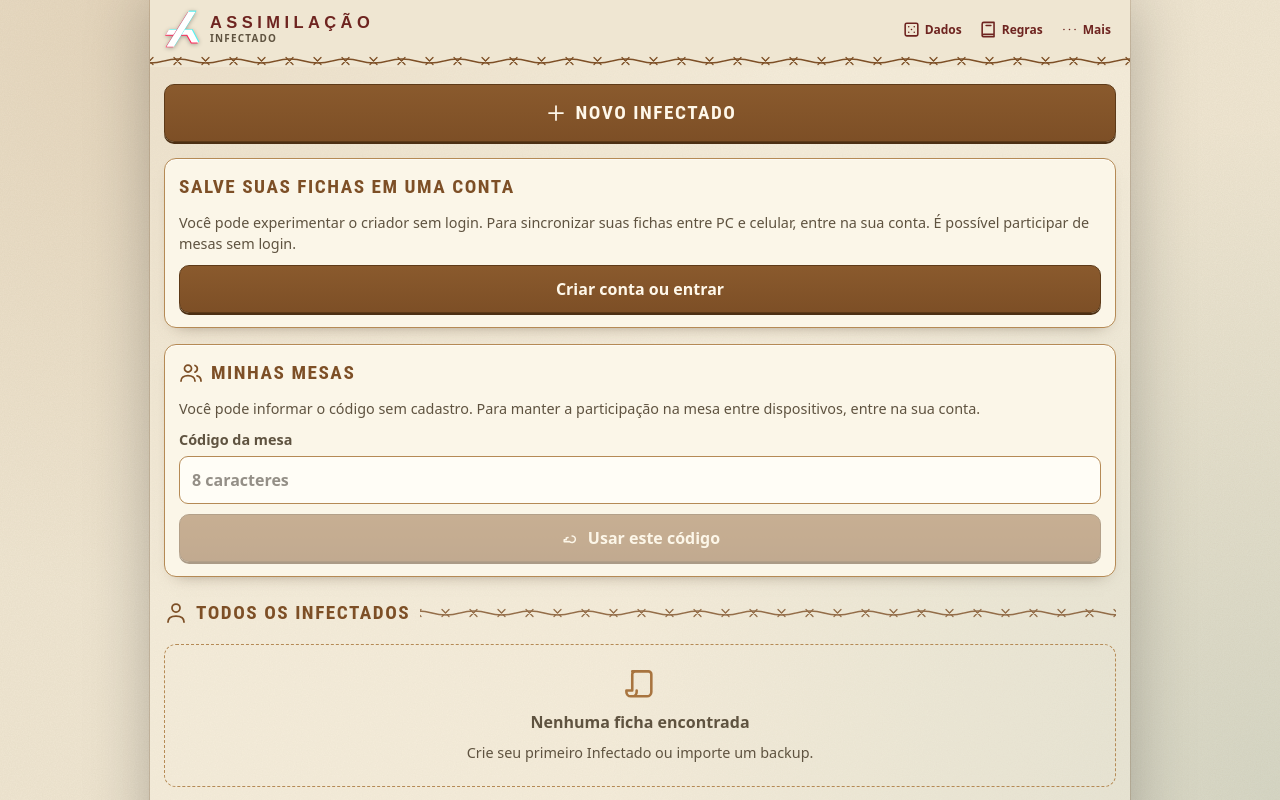
Home: entrar na mesa antes de criar personagem › código válido fica guardado (sem criar ficha) e pode ser removido
Type "abcd-2345" into the field labelled "Código da mesa".
click(640, 480); type("abcd-2345")  # box [179,456,1101,504]
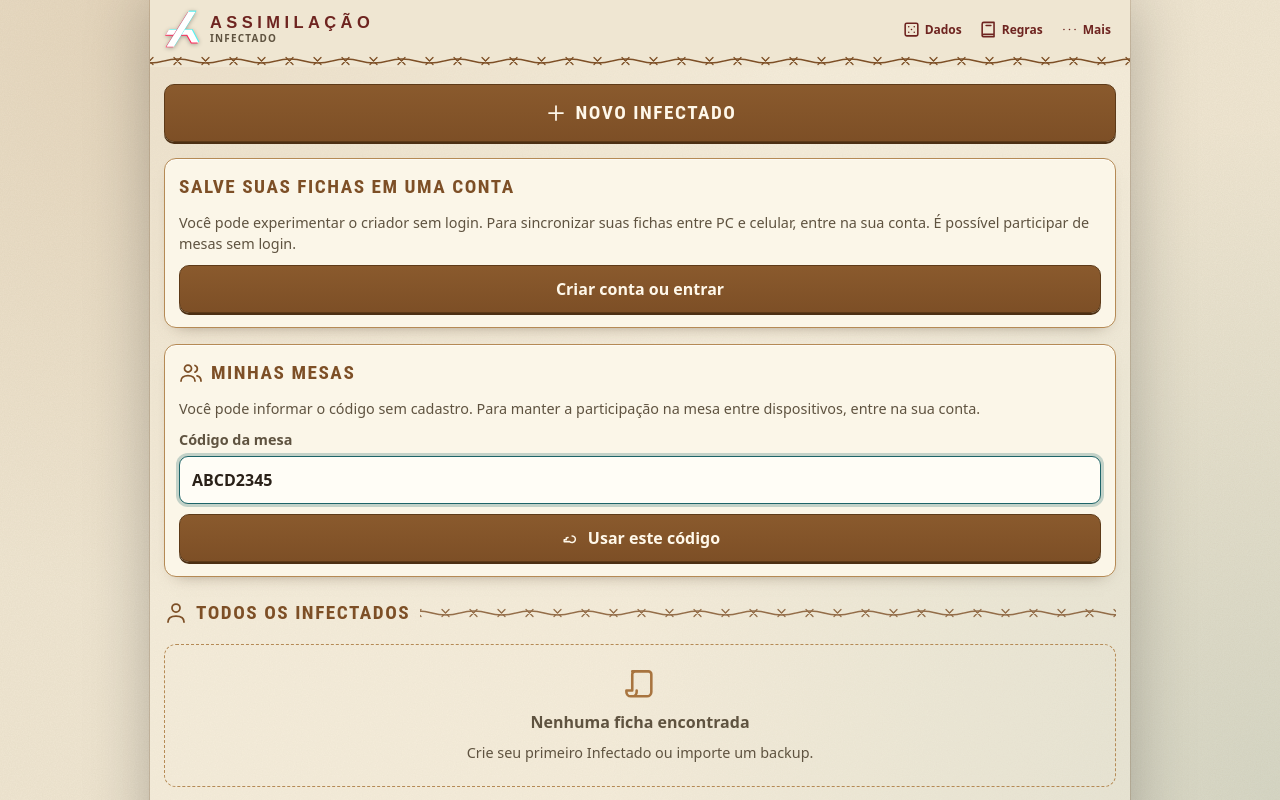
Result: the field labelled "Código da mesa" holds "ABCD2345" at [179,456,1101,504]
Click the button "Usar este código".
click(640, 538)  # box [179,514,1101,562]
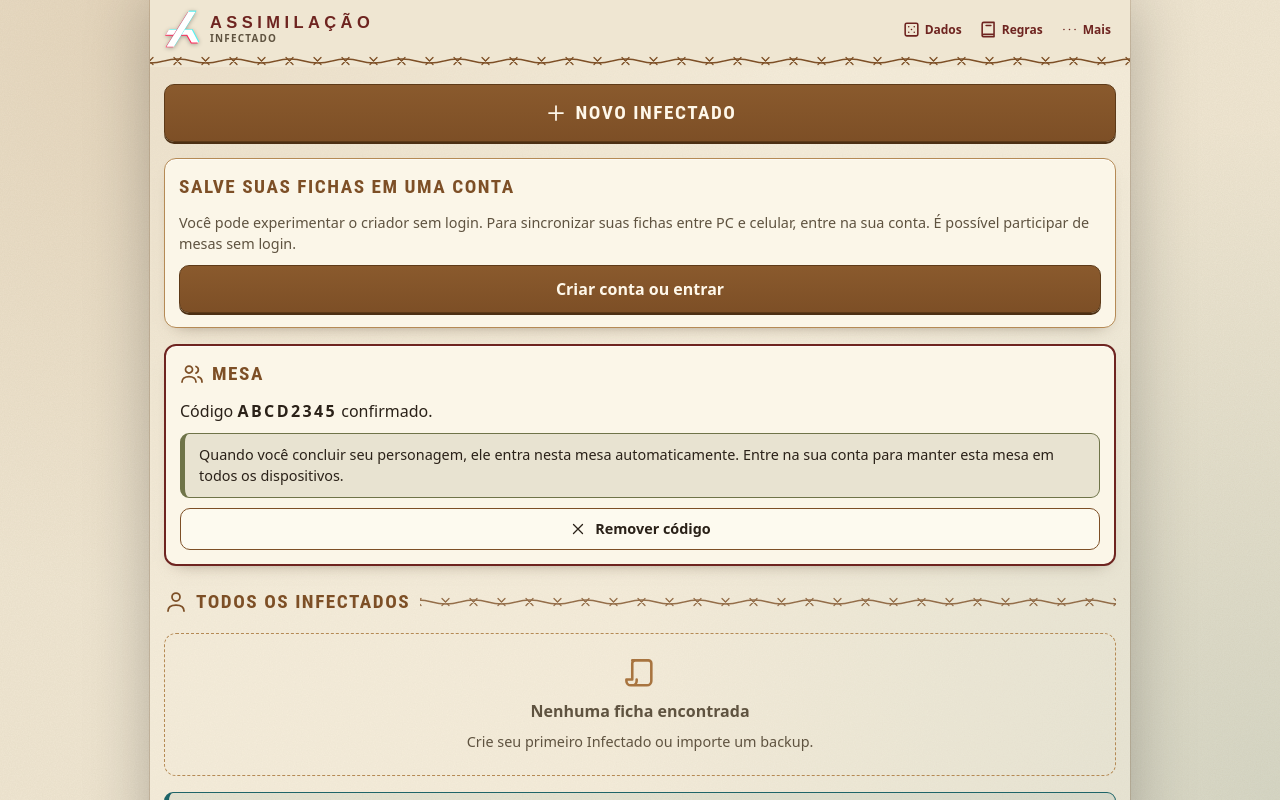
Result: the text "Código ABCD2345 confirmado." is shown at [180,400,432,422]
Result: the text "ABCD2345" is shown at [238,400,337,422]
Click the button "Remover código".
click(640, 529)  # box [180,508,1100,550]
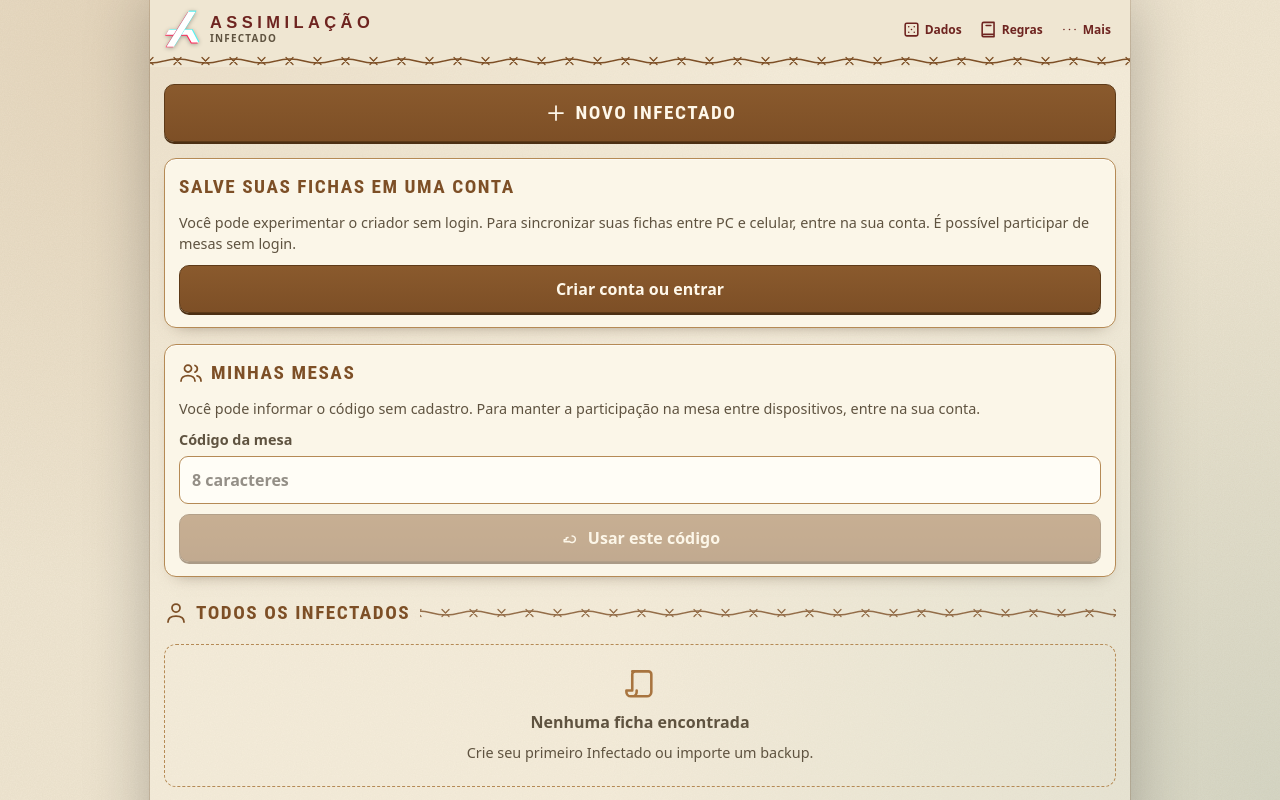
Result: the field labelled "Código da mesa" is shown at [179,456,1101,504]
